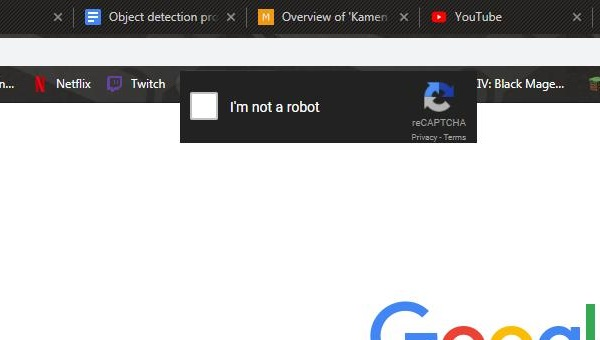captcha: (190, 92, 324, 119)
